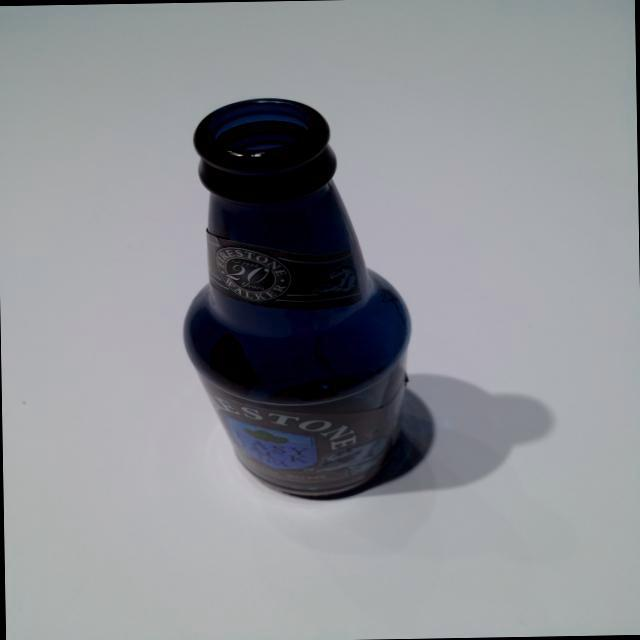glass: (175, 91, 428, 508)
